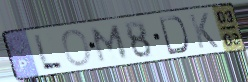8: (124, 20, 153, 60)
D: (157, 14, 190, 56)
K: (187, 11, 221, 51)
L: (32, 32, 65, 70)
M: (89, 23, 130, 64)
O: (60, 28, 93, 68)
